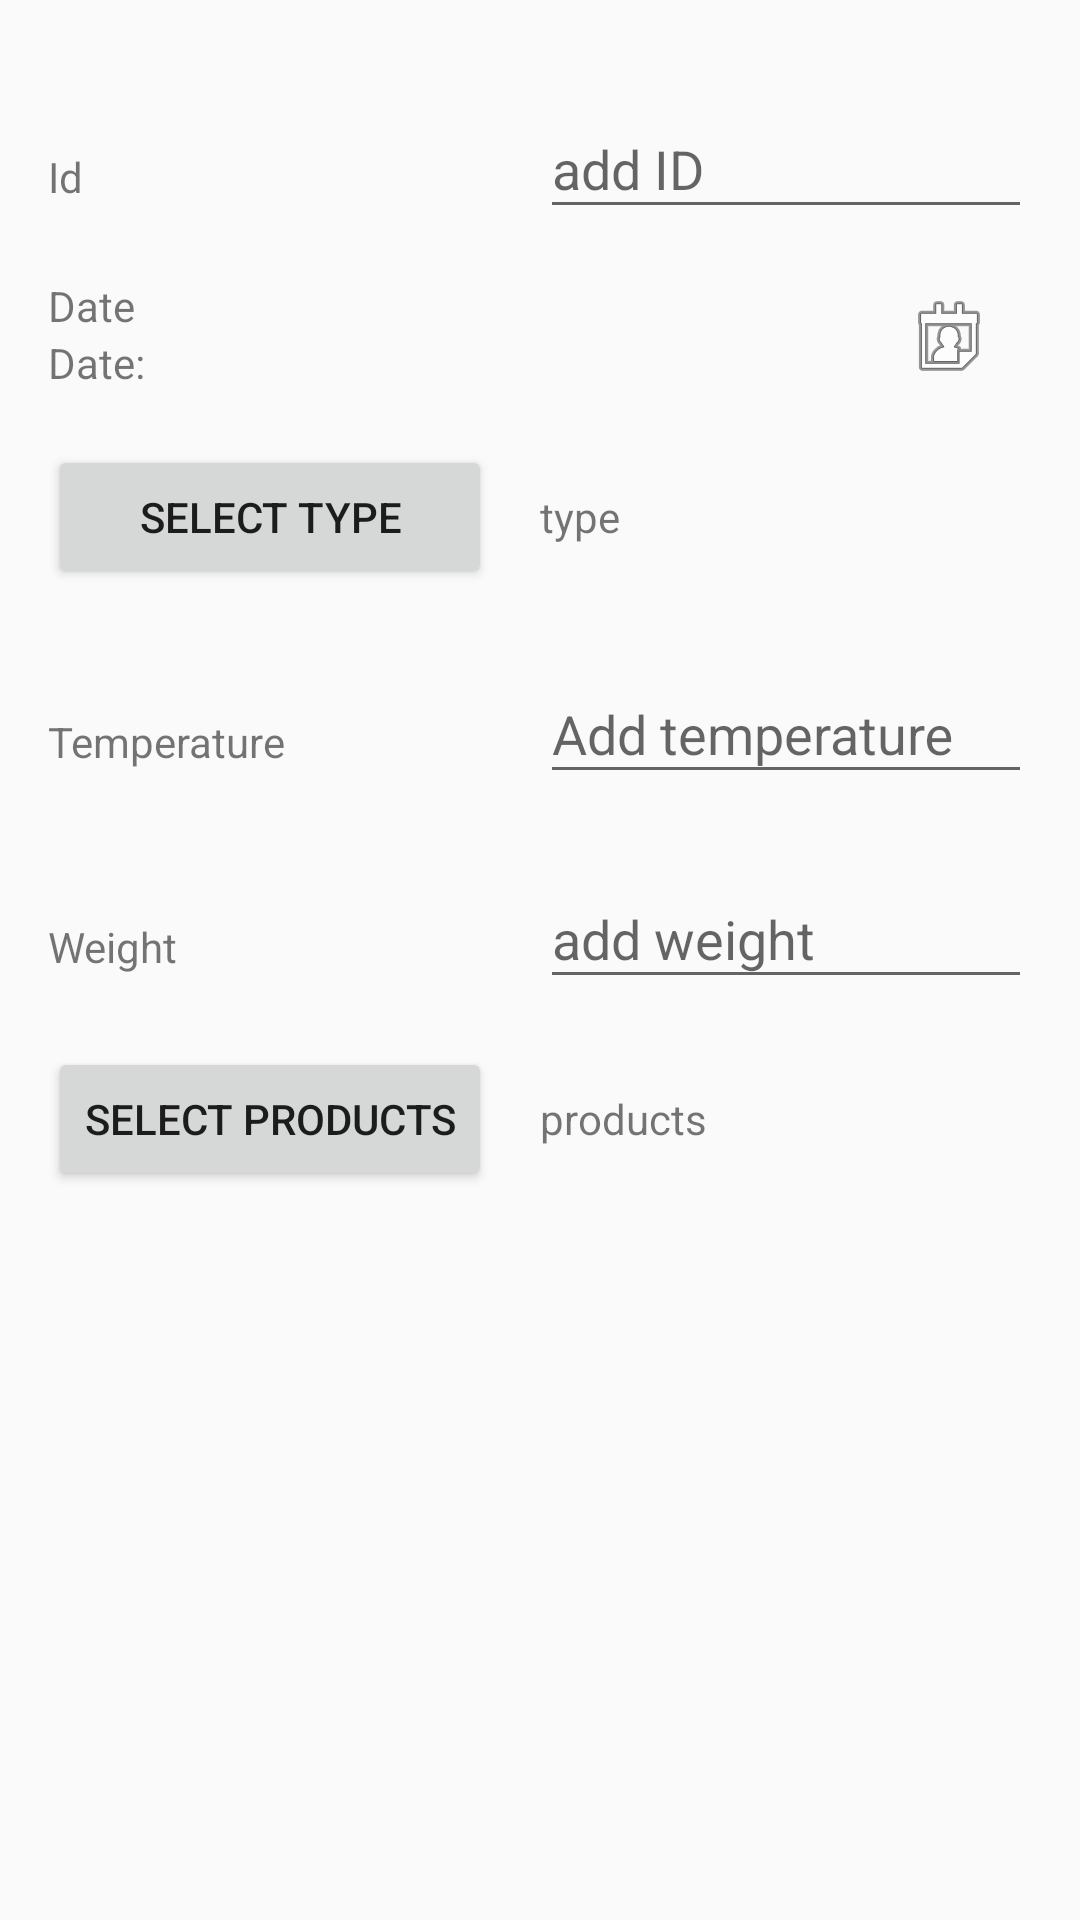

Screen size 1080px×1920px. Icon name, then its center in pixels as (x,y):
calendar: (949,336)
